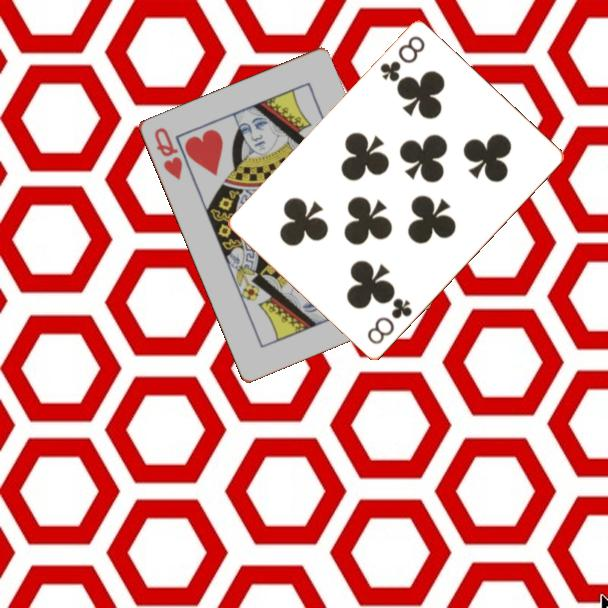c08: (376, 33, 428, 85), (364, 295, 415, 348)
h12: (150, 124, 185, 183)
